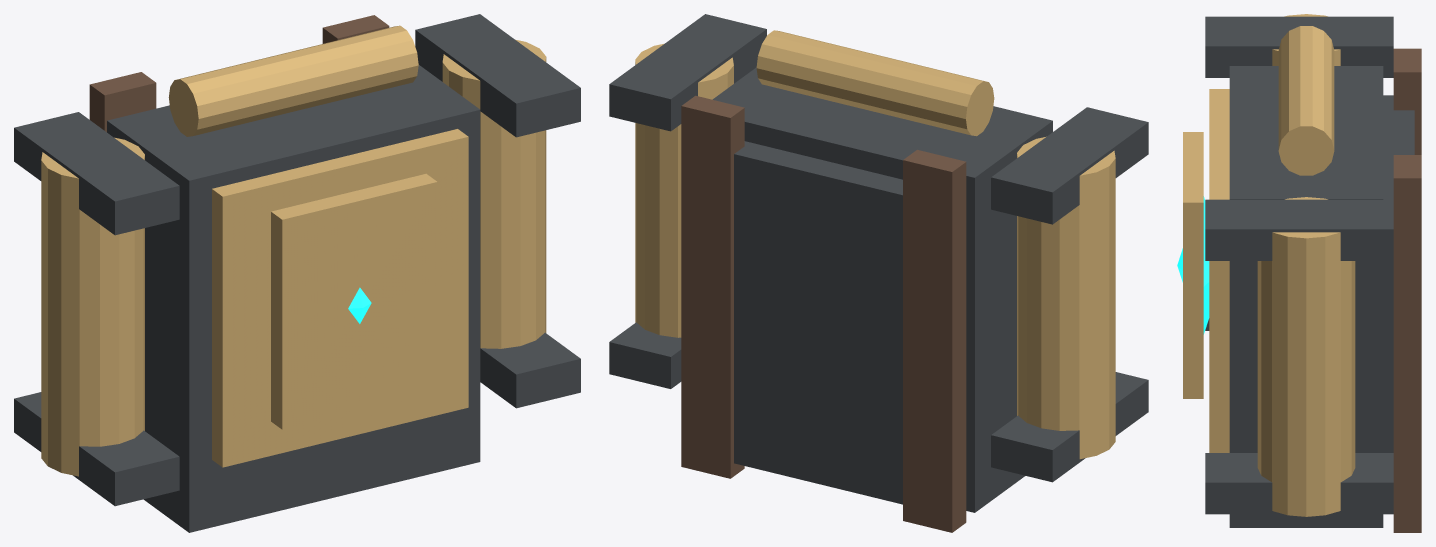
The model's file is SM_MKG_AetherCoreUnit_A01.fbx.
The picture shows the model from 3 angles, left to right: view 1: azimuth 30°, elevation 25°; view 2: azimuth 150°, elevation 25°; view 3: azimuth 270°, elevation 25°; orthographic projection. The views are drawn at different scales.
Parts seen in each view (by area): view 1: Housing_DarkIron_Frame, Core_Window_Frame, Front_Brass_Plate, Side_Cylinder_-31, Side_Cylinder_31, Top_Handle_Brass, Side_Strut_-31_Upper, Side_Strut_31_Upper, Side_Strut_-31_Lower, Side_Strut_31_Lower, Leather_Strap_-18, Leather_Strap_18; view 2: Rear_Mount_DarkIron, Housing_DarkIron_Frame, Side_Cylinder_-31, Leather_Strap_-18, Leather_Strap_18, Top_Handle_Brass, Side_Cylinder_31, Side_Strut_-31_Upper, Side_Strut_31_Upper, Side_Strut_-31_Lower, Side_Strut_31_Lower; view 3: Housing_DarkIron_Frame, Side_Cylinder_31, Leather_Strap_18, Side_Strut_31_Upper, Top_Handle_Brass, Side_Strut_-31_Upper, Side_Strut_31_Lower, Front_Brass_Plate, Core_Window_Frame, Rear_Mount_DarkIron, Leather_Strap_-18, Core_Aetherium_Crystal (+1 smaller).
Boxes of the visible parts, bbox=[...] form: Housing_DarkIron_Frame: bbox=[107, 65, 480, 532]; Core_Window_Frame: bbox=[271, 173, 437, 429]; Front_Brass_Plate: bbox=[212, 129, 468, 467]; Side_Cylinder_-31: bbox=[41, 137, 144, 476]; Side_Cylinder_31: bbox=[442, 39, 546, 348]; Top_Handle_Brass: bbox=[168, 25, 418, 136]; Side_Strut_-31_Upper: bbox=[14, 112, 179, 235]; Side_Strut_31_Upper: bbox=[415, 14, 580, 137]; Side_Strut_-31_Lower: bbox=[14, 392, 179, 506]; Side_Strut_31_Lower: bbox=[480, 332, 580, 408]; Leather_Strap_-18: bbox=[89, 72, 156, 132]; Leather_Strap_18: bbox=[322, 15, 389, 43]; Rear_Mount_DarkIron: bbox=[734, 141, 902, 504]; Housing_DarkIron_Frame: bbox=[712, 67, 1052, 512]; Side_Cylinder_-31: bbox=[1017, 136, 1115, 459]; Leather_Strap_-18: bbox=[903, 149, 966, 532]; Leather_Strap_18: bbox=[681, 95, 744, 478]; Top_Handle_Brass: bbox=[756, 30, 994, 136]; Side_Cylinder_31: bbox=[635, 43, 733, 337]; Side_Strut_-31_Upper: bbox=[991, 107, 1148, 224]; Side_Strut_31_Upper: bbox=[609, 14, 766, 131]; Side_Strut_-31_Lower: bbox=[991, 372, 1148, 482]; Side_Strut_31_Lower: bbox=[609, 322, 681, 388]; Housing_DarkIron_Frame: bbox=[1229, 66, 1383, 527]; Side_Cylinder_31: bbox=[1257, 197, 1355, 516]; Leather_Strap_18: bbox=[1393, 155, 1421, 532]; Side_Strut_31_Upper: bbox=[1205, 199, 1393, 260]; Top_Handle_Brass: bbox=[1278, 26, 1334, 175]; Side_Strut_-31_Upper: bbox=[1205, 16, 1393, 77]; Side_Strut_31_Lower: bbox=[1205, 453, 1393, 514]; Front_Brass_Plate: bbox=[1209, 89, 1229, 452]; Core_Window_Frame: bbox=[1183, 132, 1203, 398]; Rear_Mount_DarkIron: bbox=[1383, 95, 1414, 452]; Leather_Strap_-18: bbox=[1393, 48, 1421, 154]; Core_Aetherium_Crystal: bbox=[1177, 196, 1209, 334].
Size of what is drawn, in the model's own units: 3500 by 7600 by 6190.
